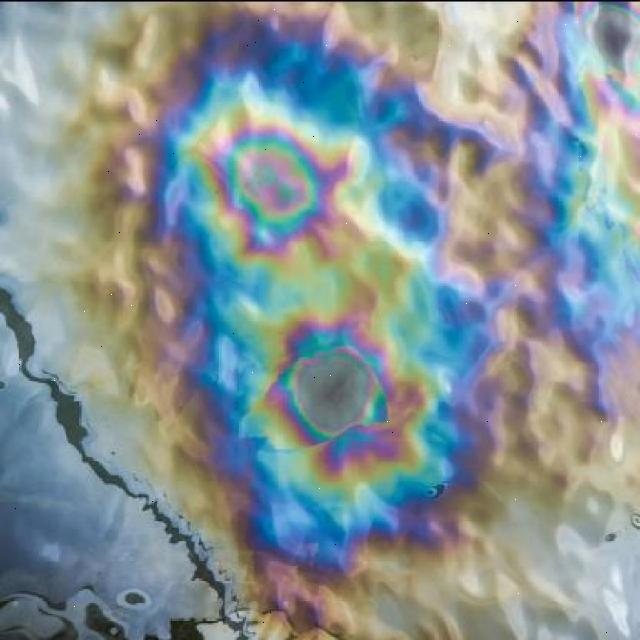rainbow: (154, 25, 489, 573)
